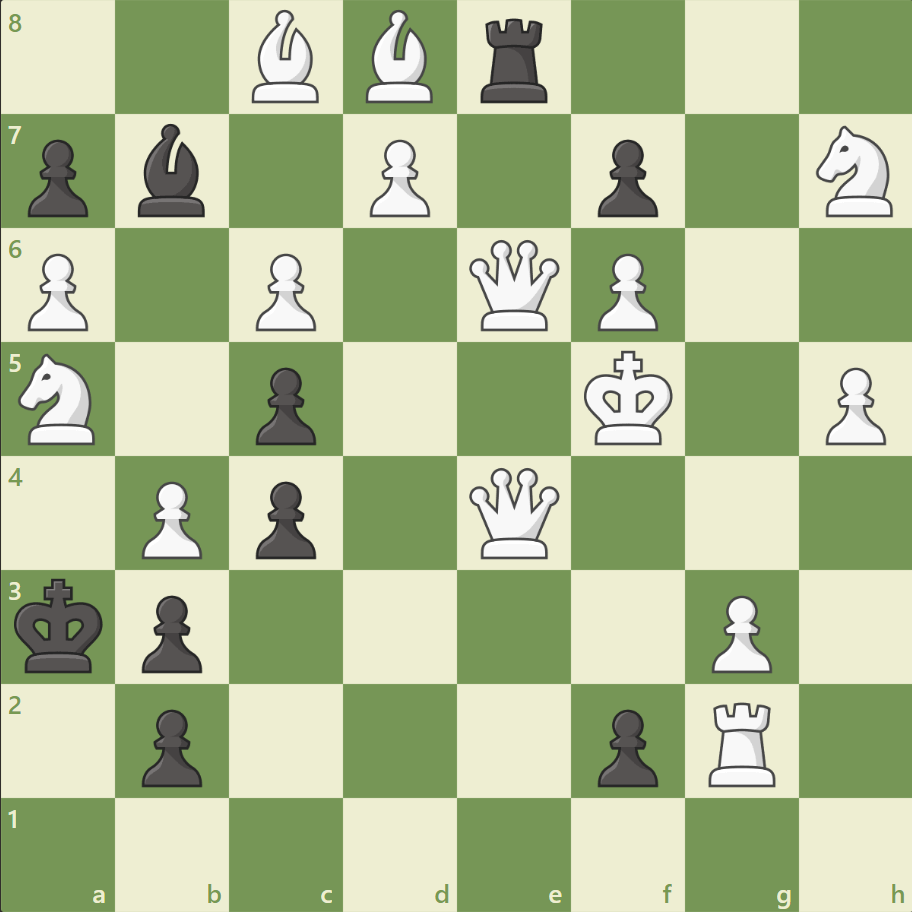B: (244, 6, 328, 109), (358, 6, 442, 109)
K: (579, 344, 679, 452)
N: (806, 121, 903, 223), (11, 348, 108, 450)
P: (20, 246, 95, 337), (247, 246, 322, 337), (133, 473, 208, 564), (701, 586, 776, 677), (361, 132, 435, 223), (588, 246, 662, 337), (815, 359, 889, 450)
Q: (464, 236, 563, 335), (464, 463, 563, 562)
R: (700, 693, 783, 790)
b: (131, 120, 215, 222)
k: (11, 571, 111, 679)
p: (20, 132, 95, 223), (247, 359, 322, 450), (247, 473, 322, 564), (133, 586, 208, 677), (133, 700, 208, 791), (588, 132, 662, 223), (588, 700, 662, 791)
r: (473, 12, 556, 109)
